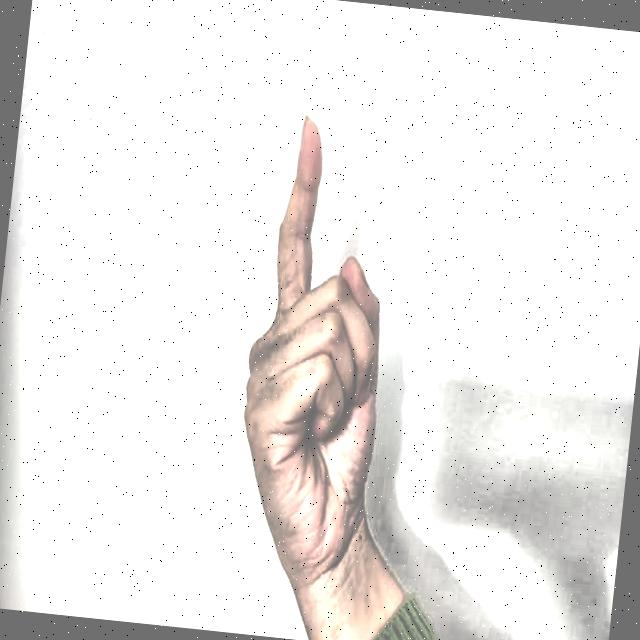U: (204, 84, 444, 571)
